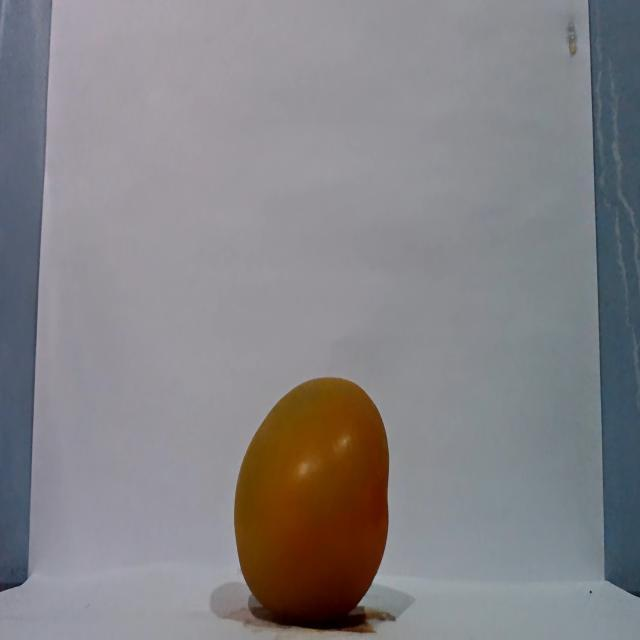Red: (232, 375, 390, 622)
